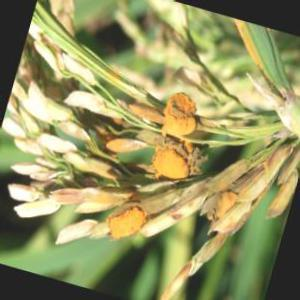Leaf_Scald: (140, 143, 198, 182), (164, 98, 205, 148), (201, 188, 240, 228), (106, 209, 160, 236)
